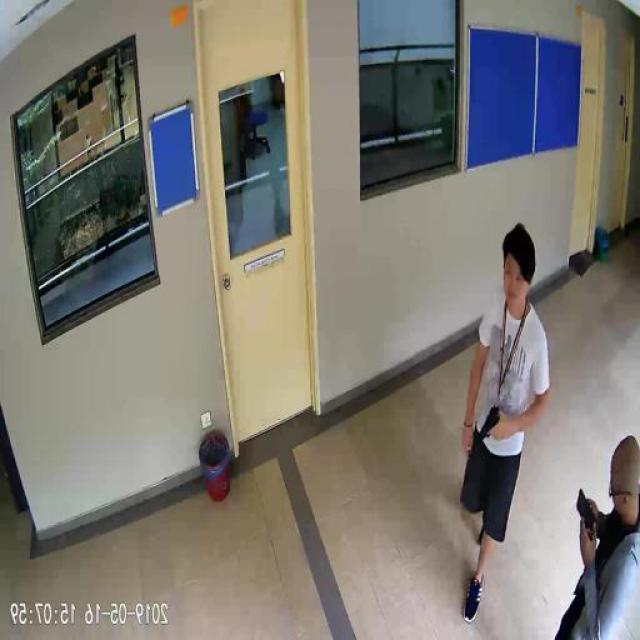weapon: (473, 405, 503, 446)
